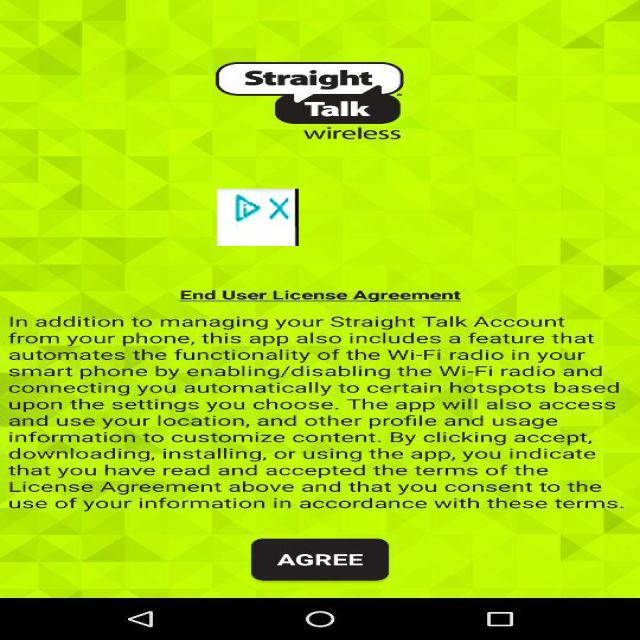sneaking: (217, 189, 299, 246)
